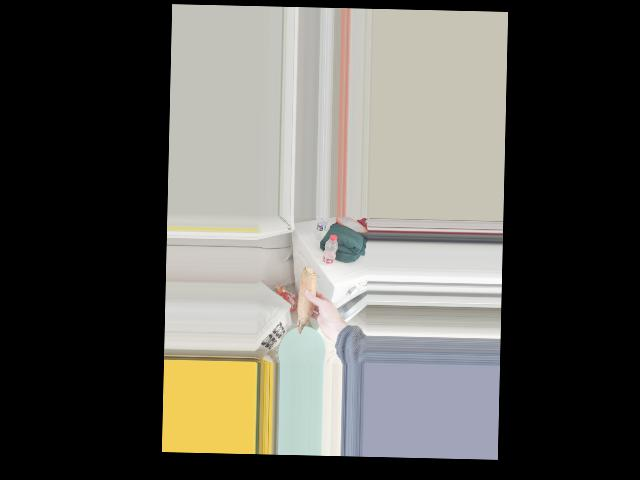sweet_potato: (292, 263, 321, 335)
